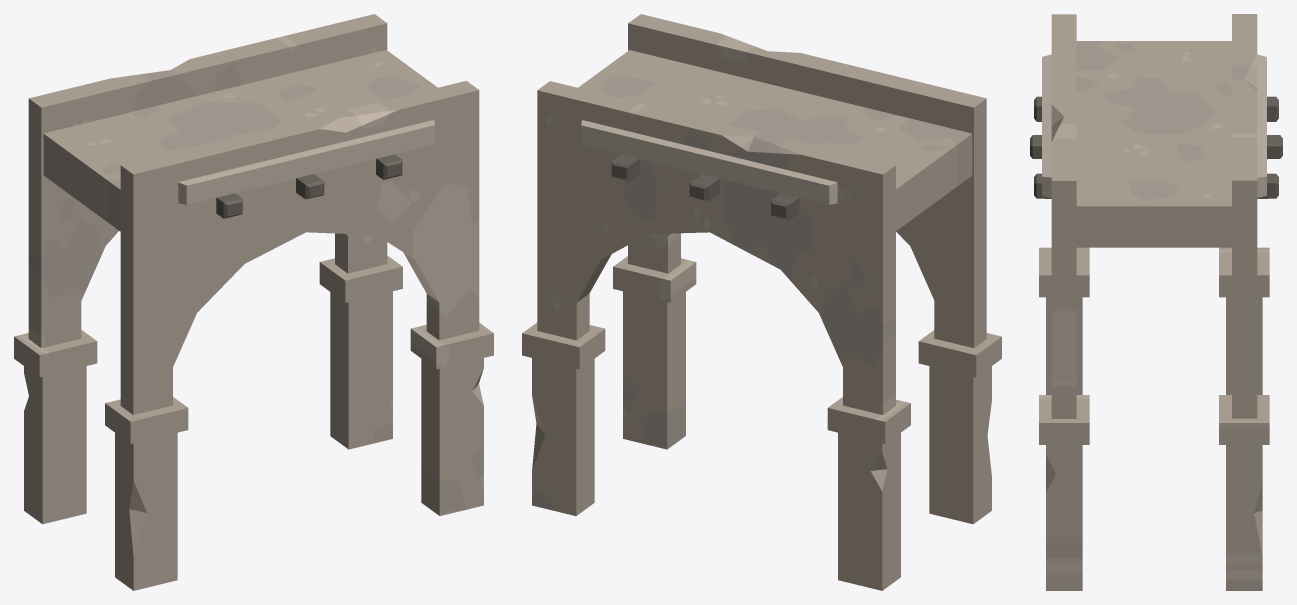
File: SM_Bld_Village_ArchwayBridge_02.fbx
3 renders of one model, left to right at view 1: azimuth 30°, elevation 25°; view 2: azimuth 150°, elevation 25°; view 3: azimuth 270°, elevation 25°, orthographic.
Parts seen in each view (by area): view 1: SM_Bld_Village_ArchwayBridge_02; view 2: SM_Bld_Village_ArchwayBridge_02; view 3: SM_Bld_Village_ArchwayBridge_02.
Part boxes in pixels (box(x1,y1,x2,y2)): SM_Bld_Village_ArchwayBridge_02: box(14, 14, 493, 590); SM_Bld_Village_ArchwayBridge_02: box(522, 14, 1001, 590); SM_Bld_Village_ArchwayBridge_02: box(1030, 14, 1282, 590).
Size of the model in its own units: 411 by 448 by 251.
